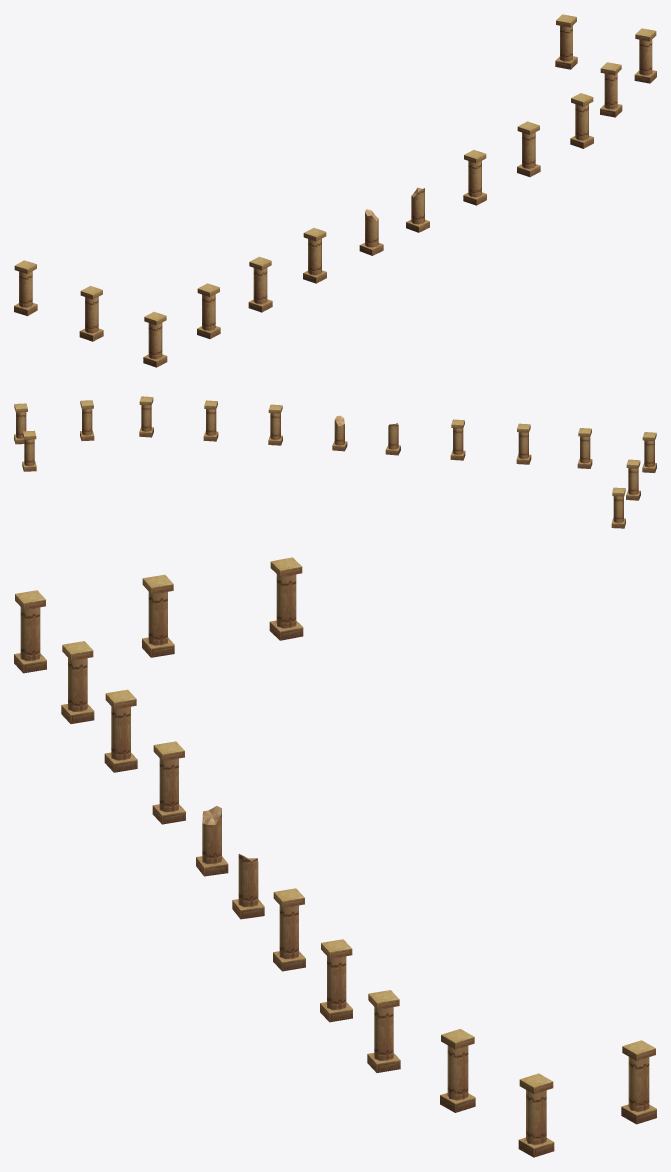
The model's file is Area_14_15.fbx.
The picture shows the model from 3 angles, top to bottom: view 1: azimuth 30°, elevation 25°; view 2: azimuth 150°, elevation 25°; view 3: azimuth 270°, elevation 25°; orthographic projection. The views are drawn at different scales.
Visible parts, largest first — view 1: Area_14_15; view 2: Area_14_15; view 3: Area_14_15.
Part boxes in pixels (x1,y1,x2,y2): Area_14_15: (14, 14, 656, 367); Area_14_15: (14, 396, 656, 528); Area_14_15: (14, 557, 656, 1157).
Bounding box in the file's own units: 6690 × 410 × 3423.
